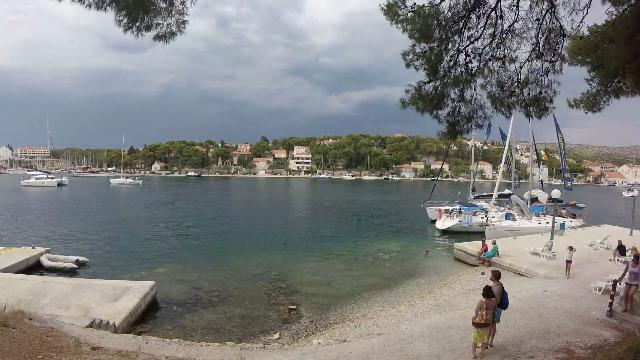Freighter: (65, 157, 119, 179)
Sailboat: (18, 170, 72, 190), (105, 172, 149, 190)
